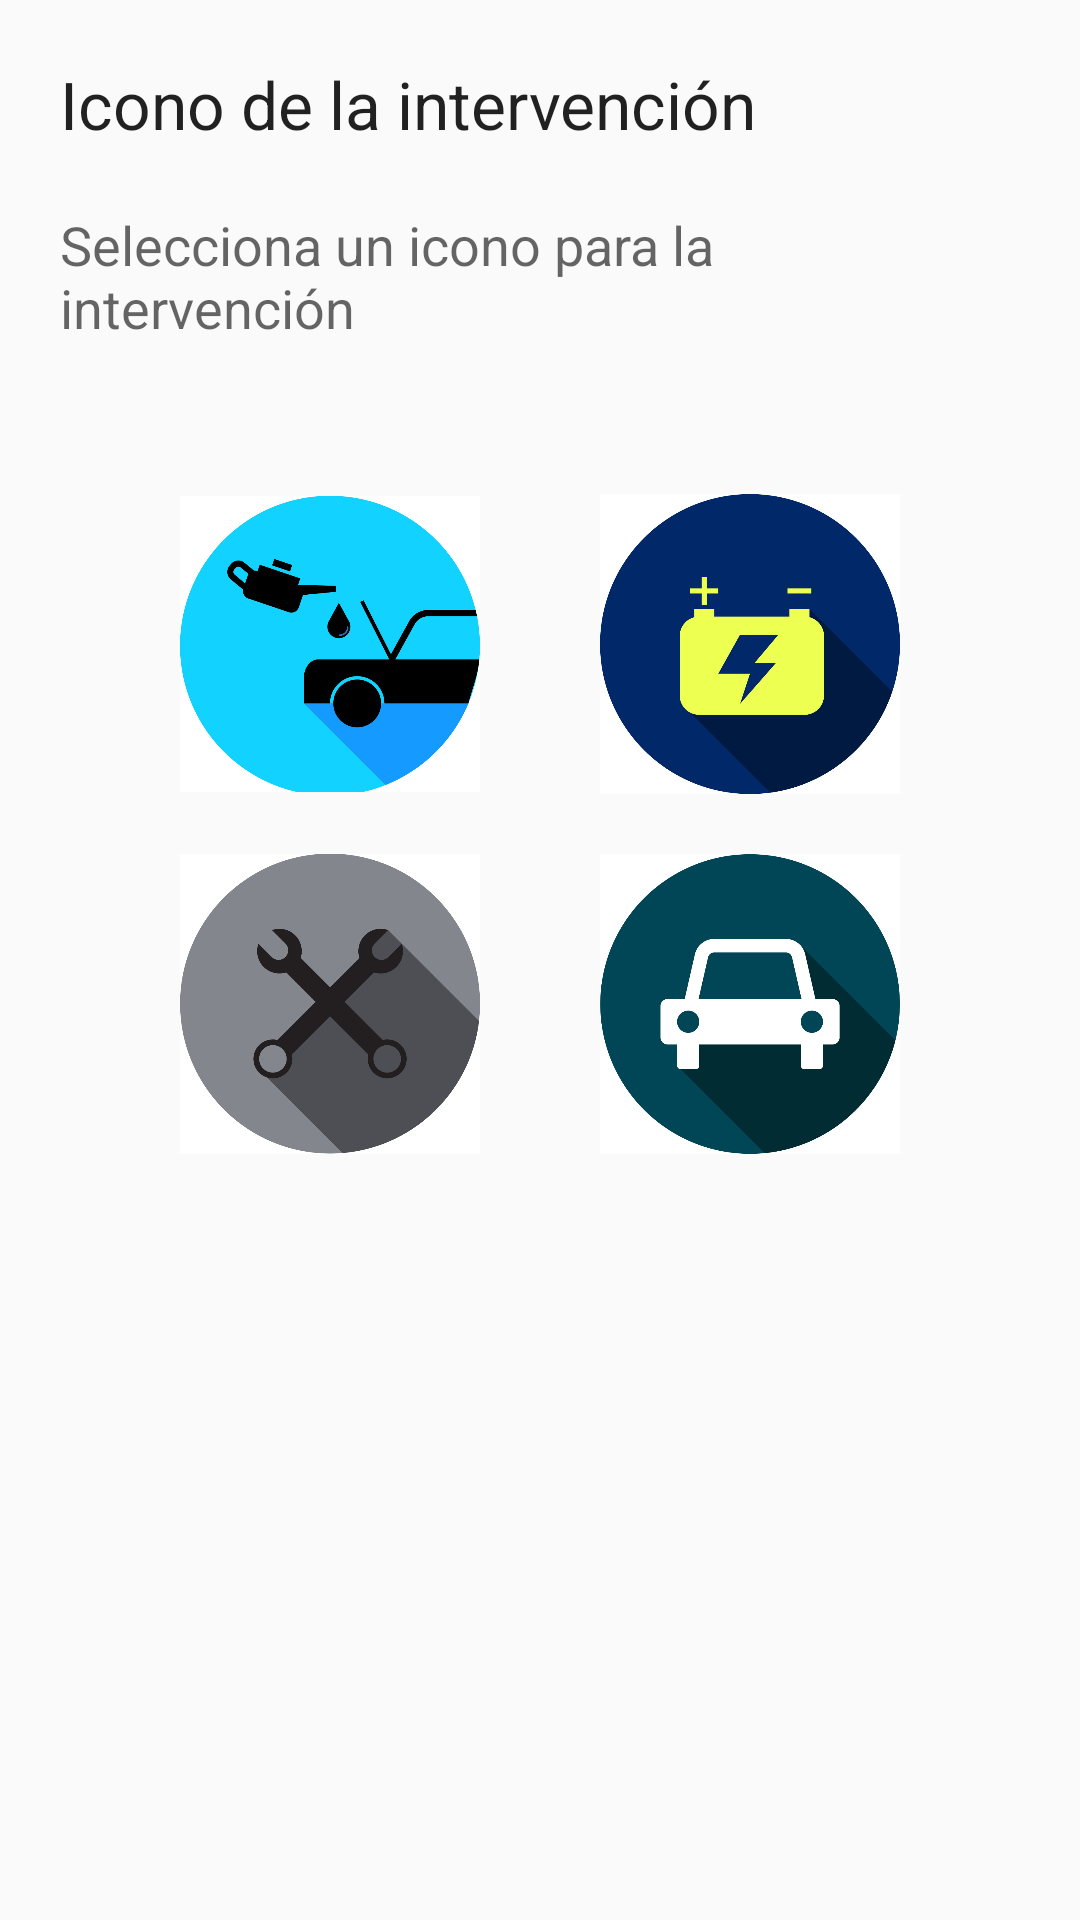

Icons on this 1080x1920 Android screen, each with the point to tap as [x,y]:
Icono que corresponde a intervencion electrica: [750,644]
mecanica: [330,1004]
